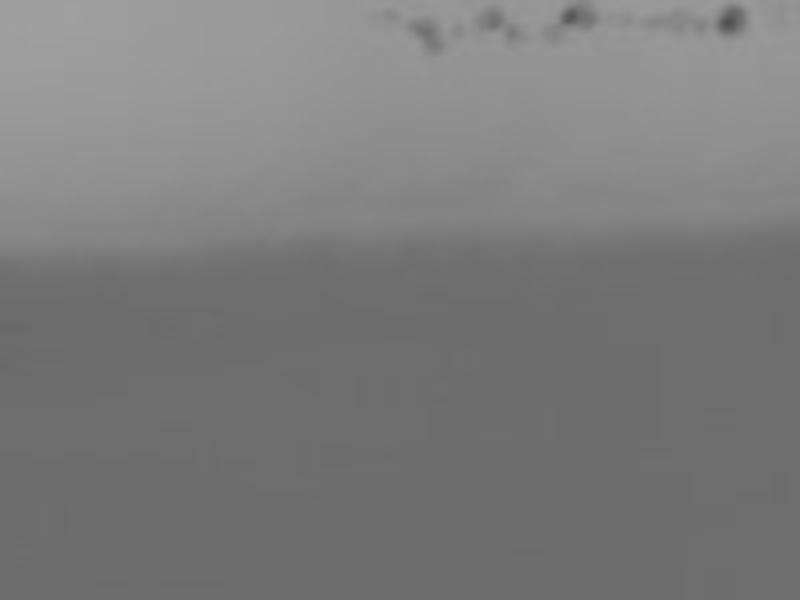defect: (408, 18, 446, 56), (649, 9, 708, 33), (718, 4, 754, 37), (474, 1, 506, 31), (563, 3, 594, 33), (540, 19, 565, 44), (446, 15, 470, 38), (499, 27, 521, 44), (378, 4, 398, 21)
